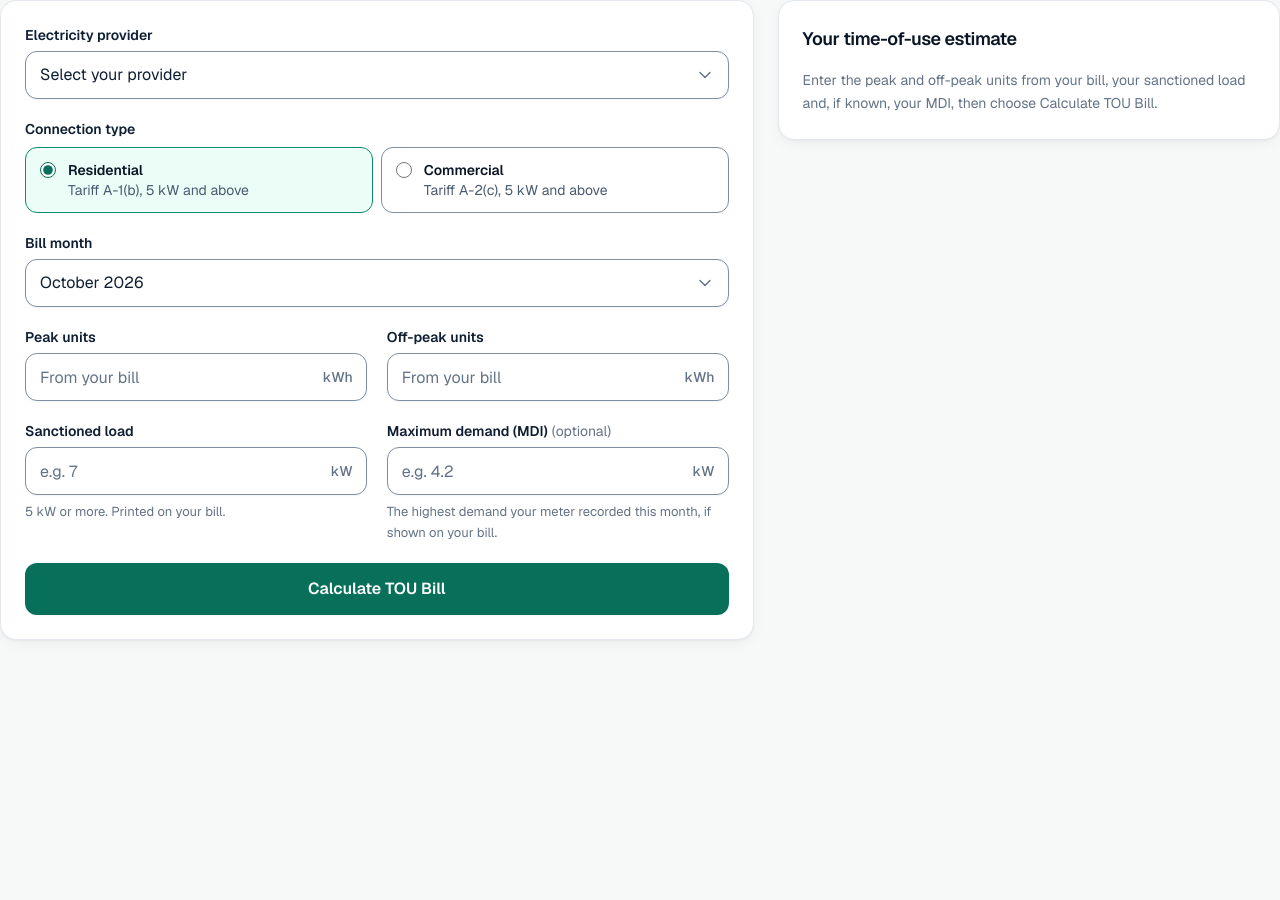
Scenario: TOU calculator form › calculates a HAZECO residential estimate with a not-yet-notified FCA, sending no figures
The width and height of the screenshot is (1280, 900).
Select "HAZECO (Hazara Electric Supply Company)" in the dropdown labelled "Electricity provider". click: (377, 75)
box: [25, 51, 729, 99]
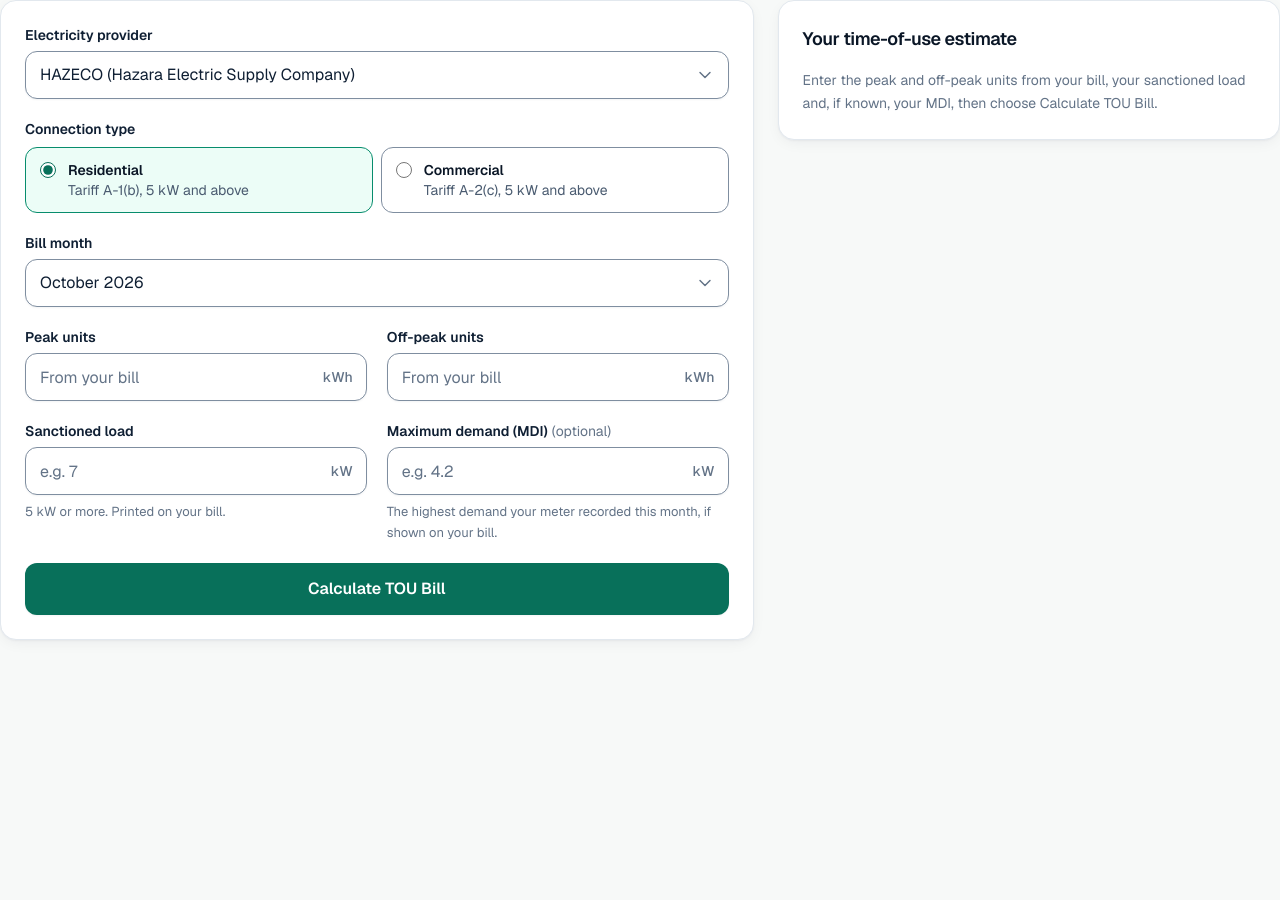
Type "200" into the field labelled "Peak units". click: (196, 377)
box: [25, 353, 367, 401]
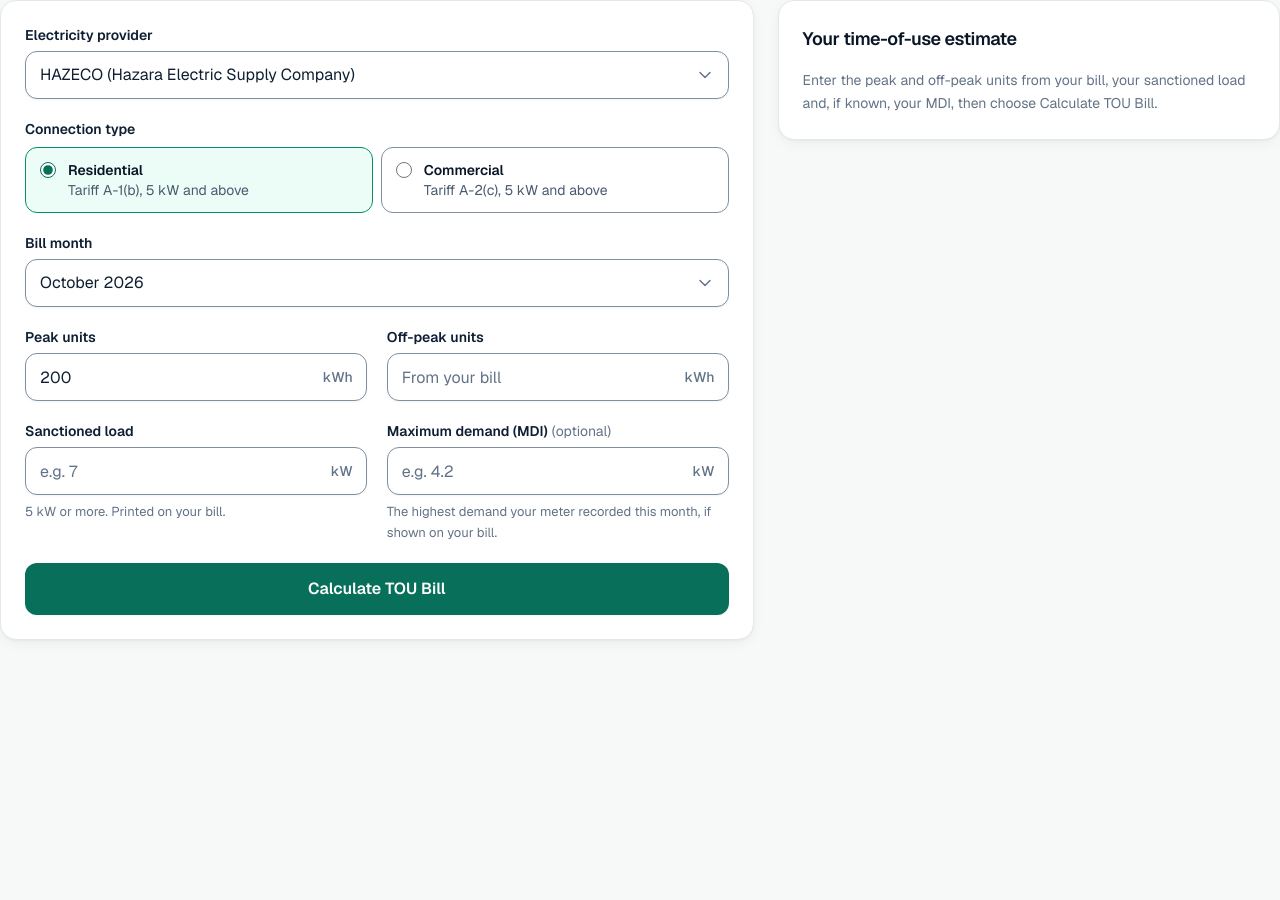
Type "800" into the field labelled "Off-peak units". click: (558, 377)
box: [387, 353, 729, 401]
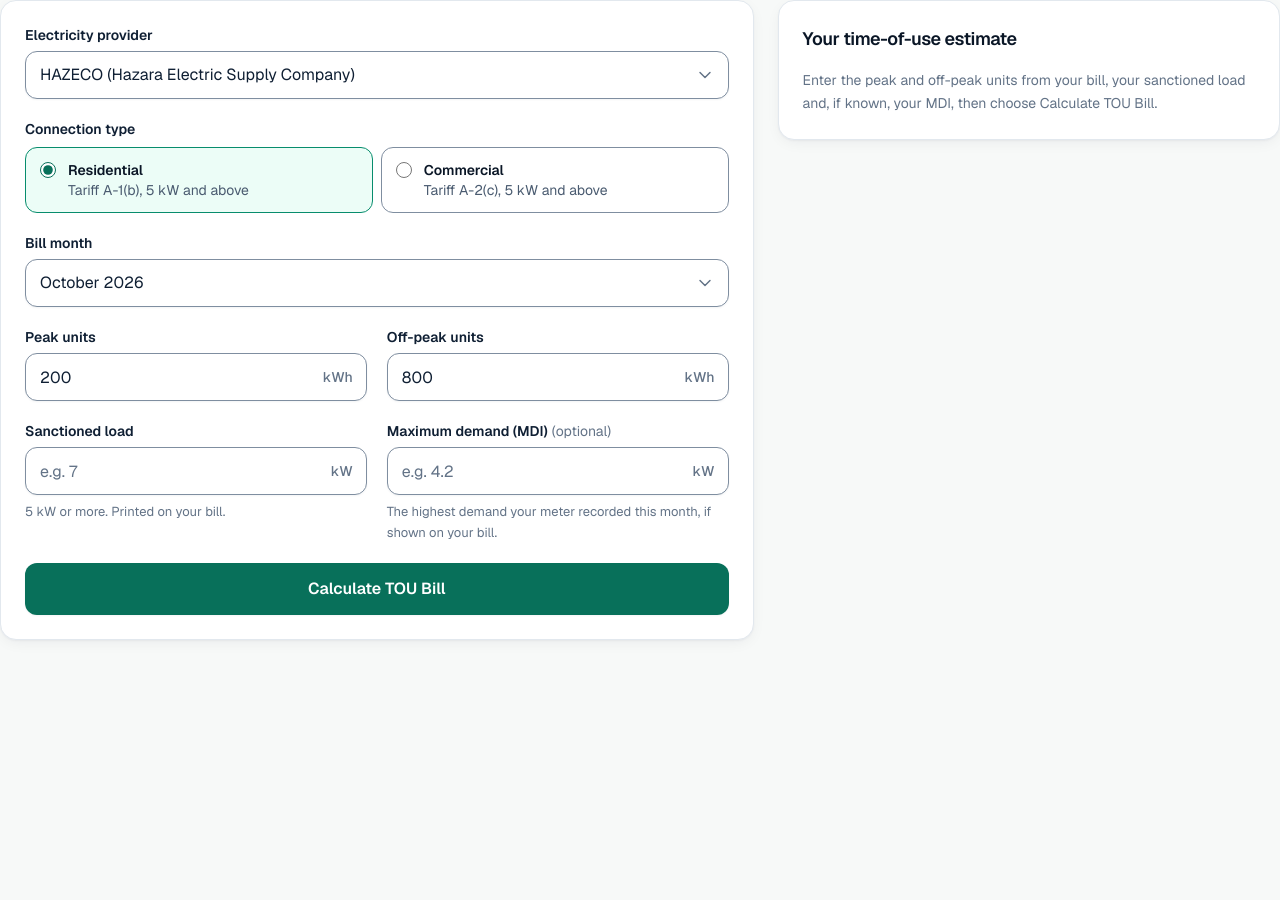
Type "6" into the field labelled "Sanctioned load". click: (196, 471)
box: [25, 447, 367, 495]
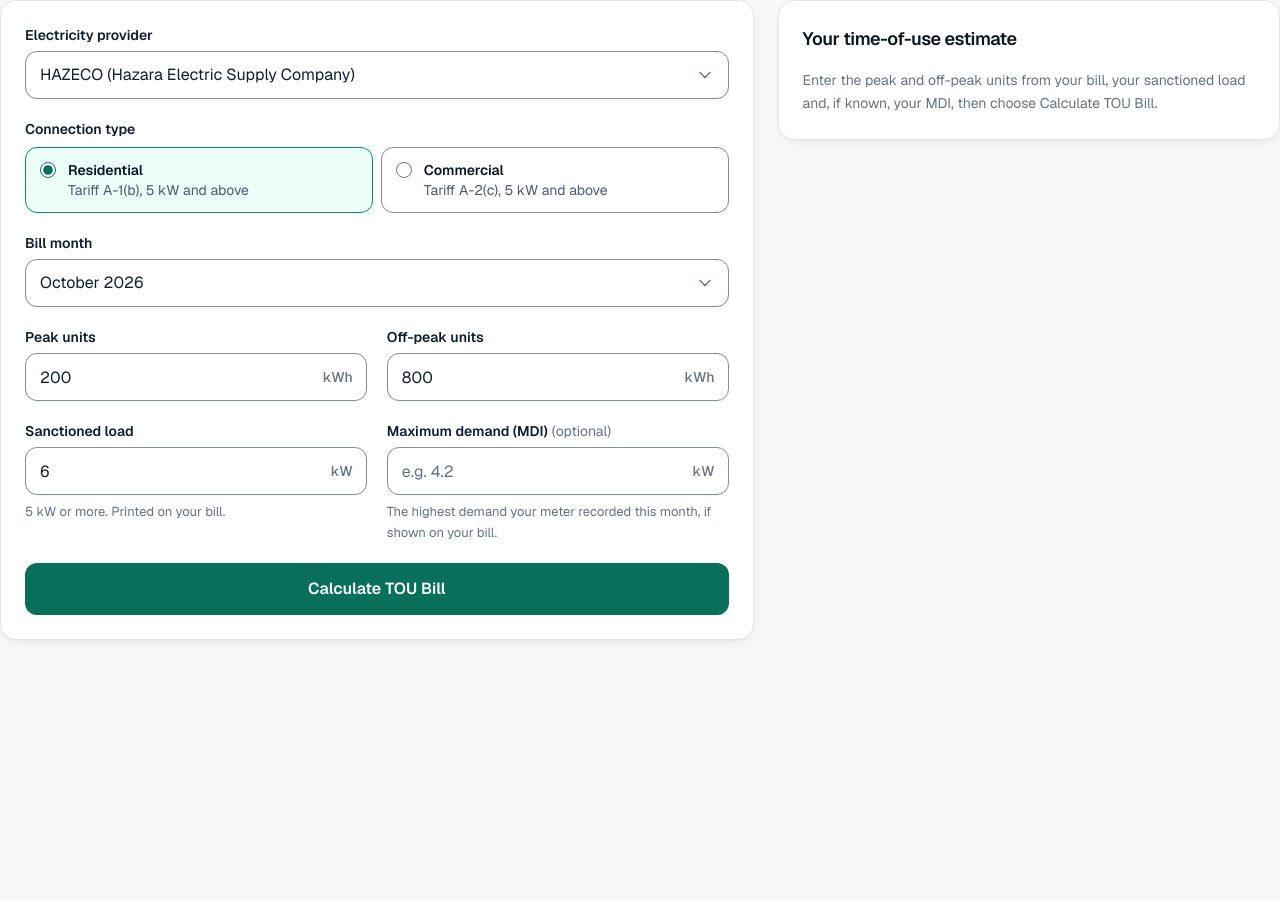
Click the button "Calculate TOU Bill". click: (377, 589)
box: [25, 563, 729, 615]
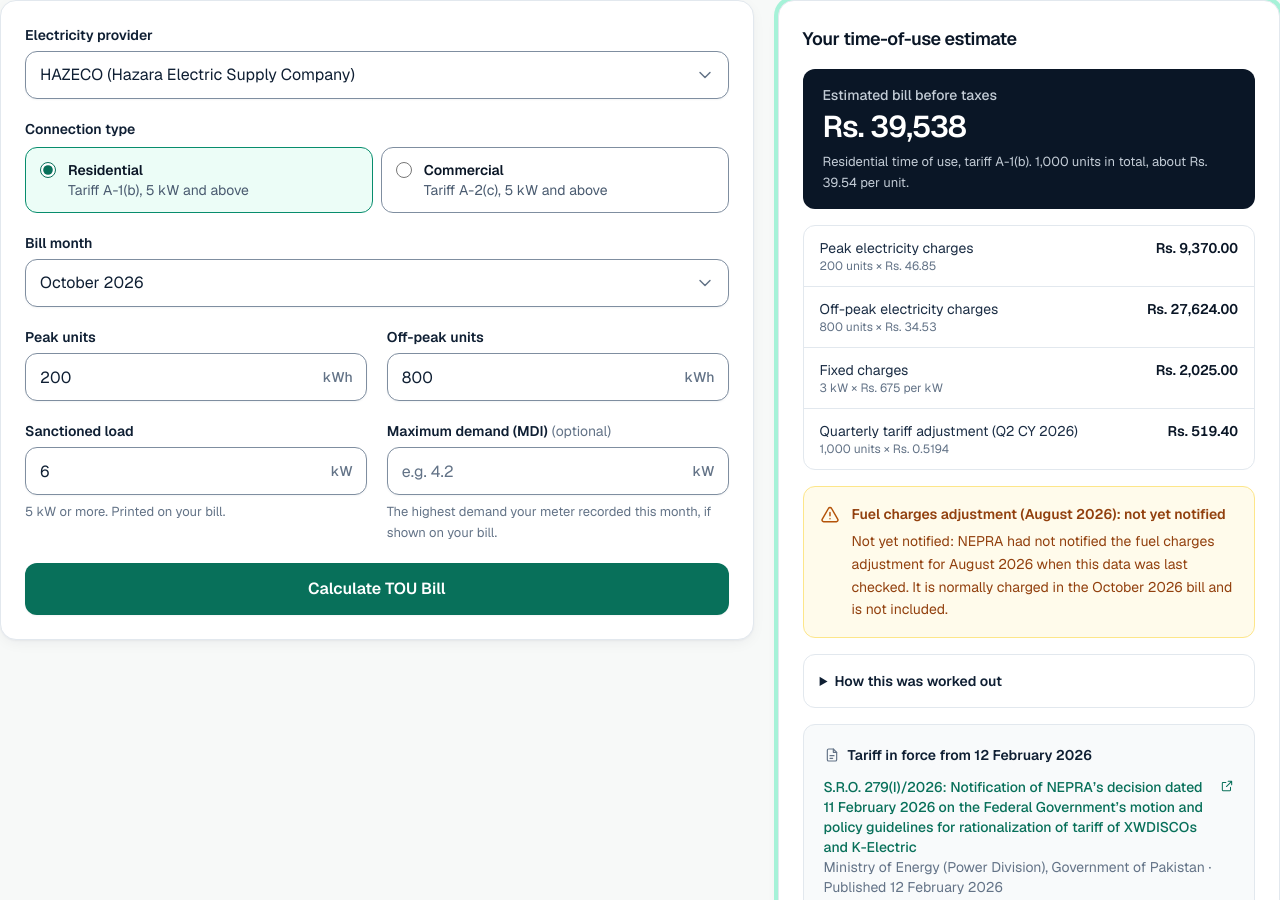
Now the text "Rs. 39,538" is shown, box [823, 107, 966, 146]
